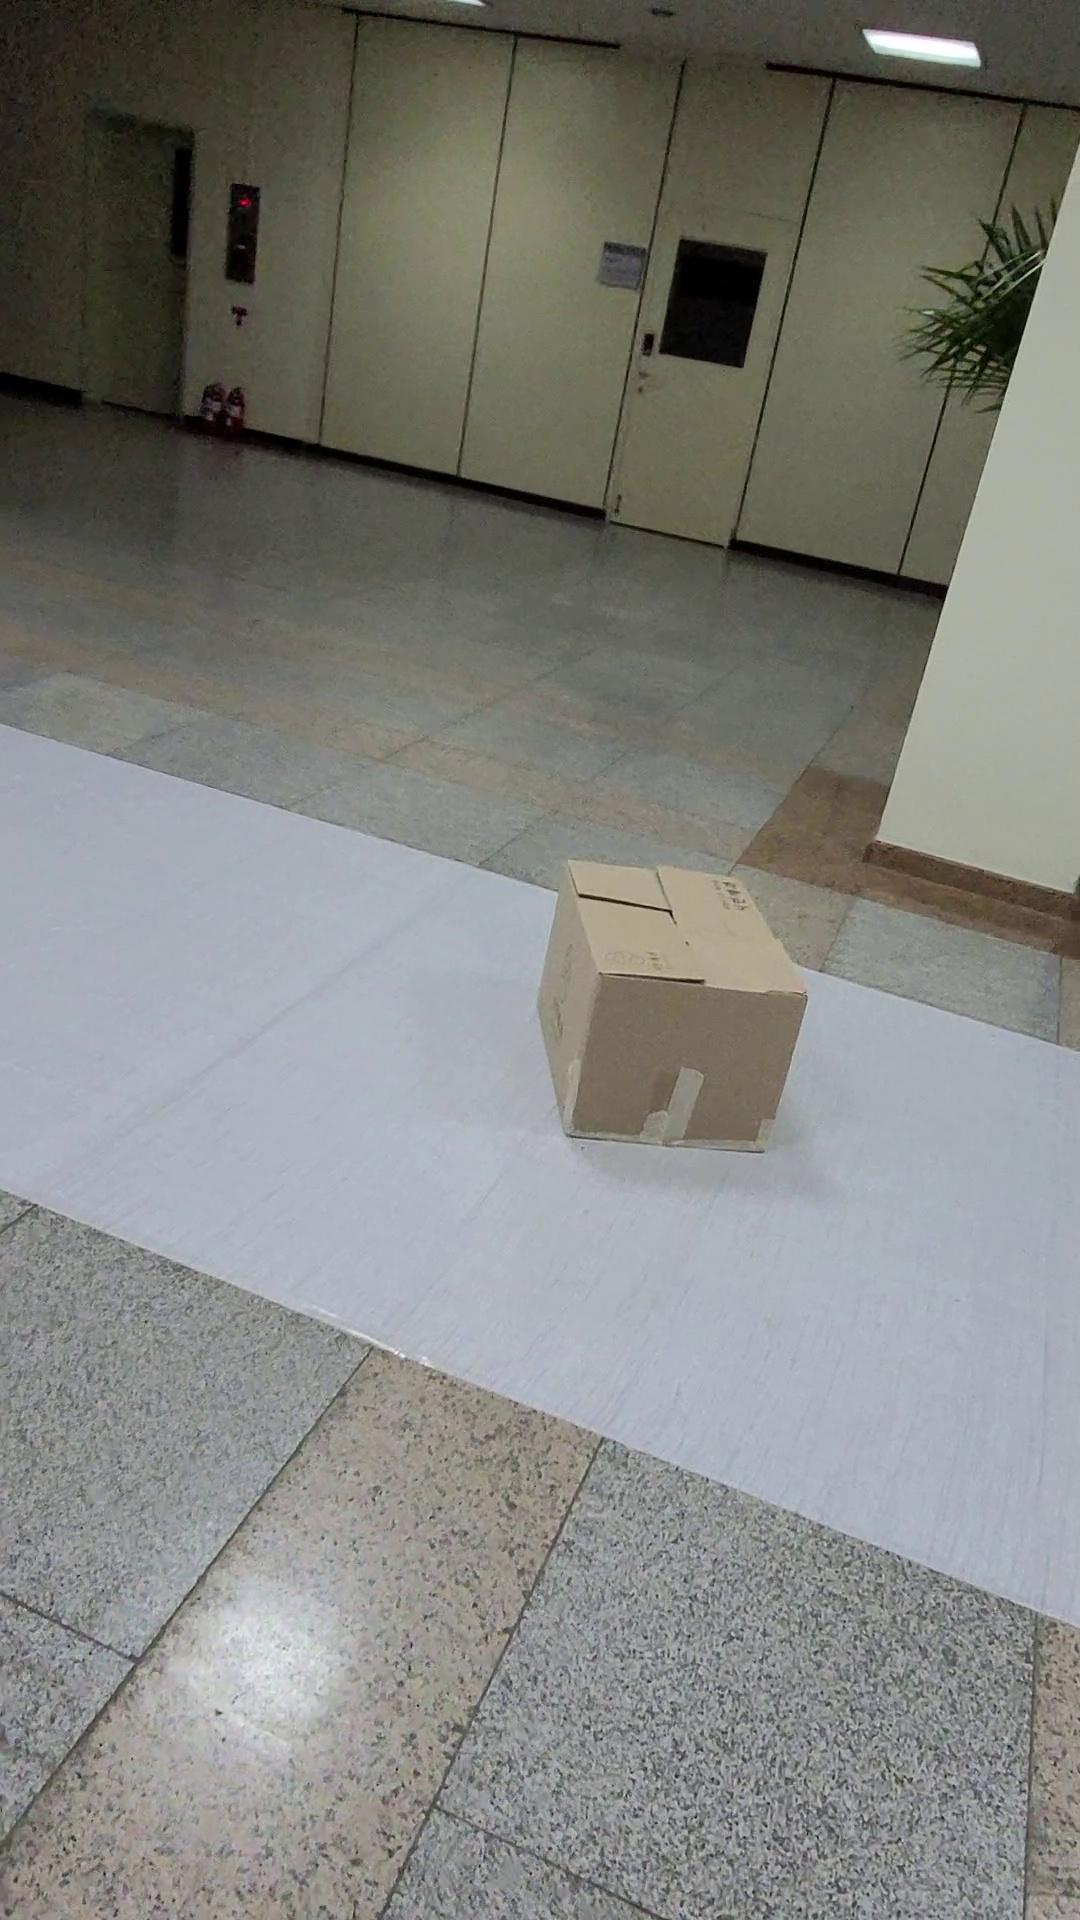Box: (488, 828, 822, 1178)
